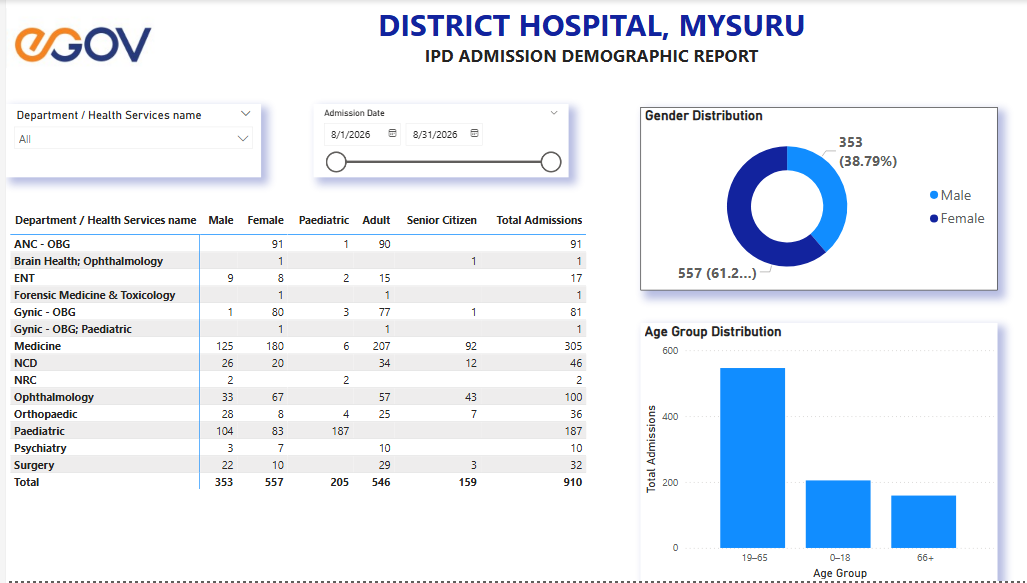

This screenshot's page, from the dashboard's own definition file:
{"tool":"powerbi","page":{"name":"Page 1","canvas":[1280,720],"ordinal":0},"visuals":[{"type":"image","box":[0,0,184.9,96.2],"z":0},{"type":"textbox","box":[184.9,0,1077.4,96.2],"z":1000},{"type":"slicer","fields":{"Values":["Query result.Department / Health Services name"]},"box":[0,130.2,315.1,90.6],"z":2000},{"type":"slicer","fields":{"Values":["Query result.Admission Date"]},"box":[379.2,130.2,315.1,90.6],"z":3000},{"type":"pivotTable","fields":{"Rows":["Query result.Department / Health Services name"],"Values":["Query result.Male","Query result.Female","Query result.Paediatric","Query result.Adult","Query result.Senior Citizen","Query result.Total Admissions"]},"box":[0,258.5,724.5,362.3],"z":4000},{"type":"donutChart","title":"Gender Distribution","fields":{"Y":["Query result.Male","Query result.Female"]},"box":[784.9,134,441.5,226.4],"z":5000},{"type":"clusteredColumnChart","title":"Age Group Distribution","fields":{"Category":["Query result.Age Group"],"Y":["Query result.Total Admissions"]},"box":[784.9,400,441.5,320.8],"z":6000}]}

Visuals, with their boxes in screenshot pixels (x1, y1, x2, y2), scaled from the page's 1280x720 canvas onto the 1027x583 screenshot:
image: [0,0,148,78]
textbox: [148,0,1013,78]
slicer - Query result.Department / Health Services name: [0,105,253,179]
slicer - Query result.Admission Date: [304,105,557,179]
pivotTable - Query result.Department / Health Services name x Query result.Male: [0,209,581,503]
"Gender Distribution" donutChart: [630,109,984,292]
"Age Group Distribution" clusteredColumnChart: [630,324,984,582]
